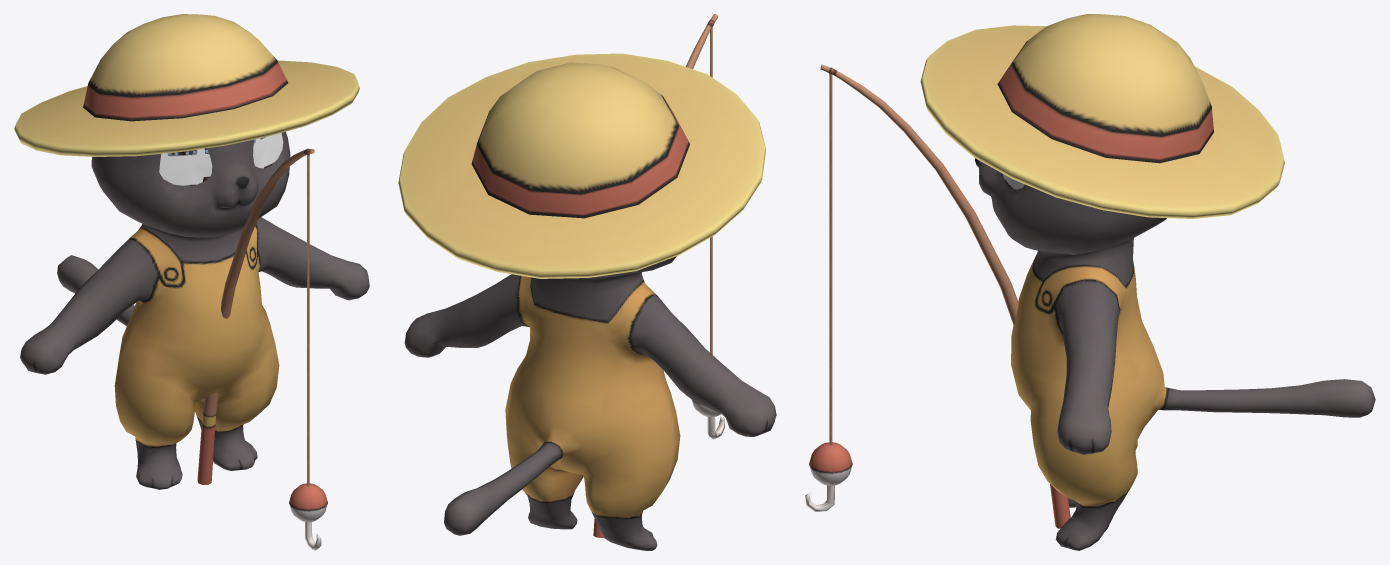
Rendered from Fisher_Man.fbx.
3 renders of one model, left to right at view 1: azimuth 30°, elevation 25°; view 2: azimuth 150°, elevation 25°; view 3: azimuth 270°, elevation 25°, orthographic. The views are drawn at different scales.
Parts seen in each view (by area): view 1: Fisher_Man, Fishing_Rod, Fisher_Man_Eye; view 2: Fisher_Man, Fishing_Rod; view 3: Fisher_Man, Fishing_Rod.
Boxes of the visible parts, x1,y1,x2,y2 form: Fisher_Man: [14, 14, 369, 489]; Fishing_Rod: [197, 148, 327, 550]; Fisher_Man_Eye: [159, 133, 283, 185]; Fisher_Man: [398, 53, 776, 550]; Fishing_Rod: [593, 14, 724, 537]; Fisher_Man: [920, 14, 1375, 550]; Fishing_Rod: [805, 64, 1070, 528].
Size of the model in its own units: 406 by 507 by 522.
